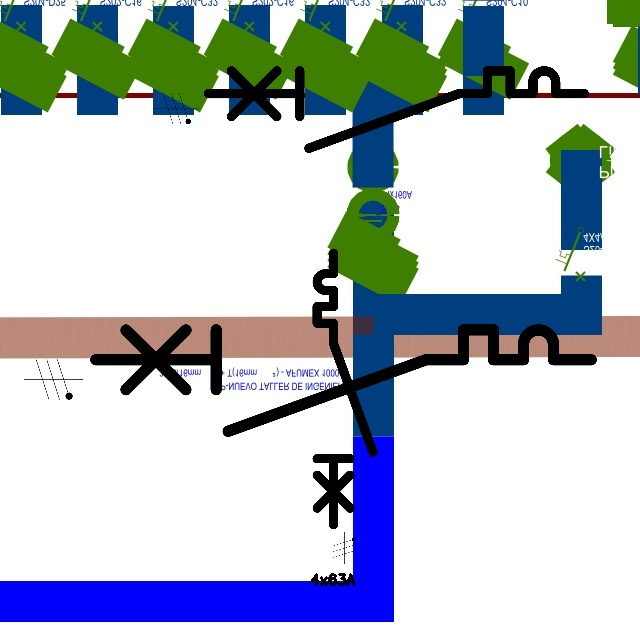interruptor_termomagnetico: (82, 317, 603, 444), (198, 61, 594, 158), (310, 246, 380, 531)
